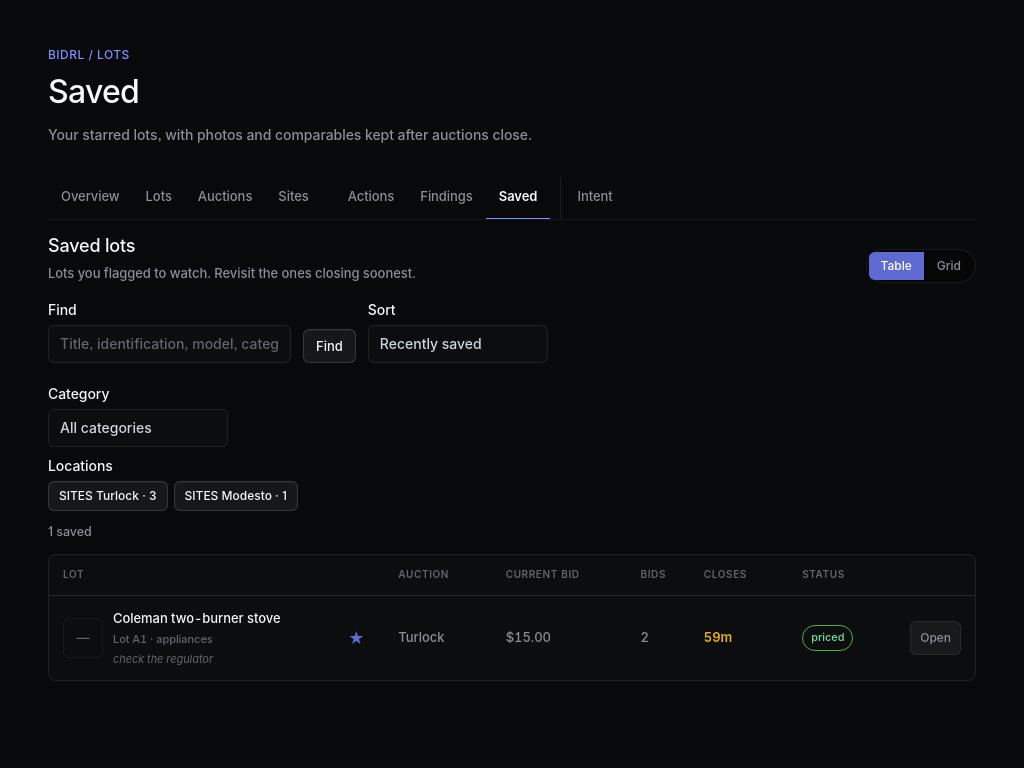
Test: bidrl screens › drops a lot from Saved the moment it is unstarred, without a reload
Click the button with class "bidrl-star" at (356, 638), box [342,624,370,652]
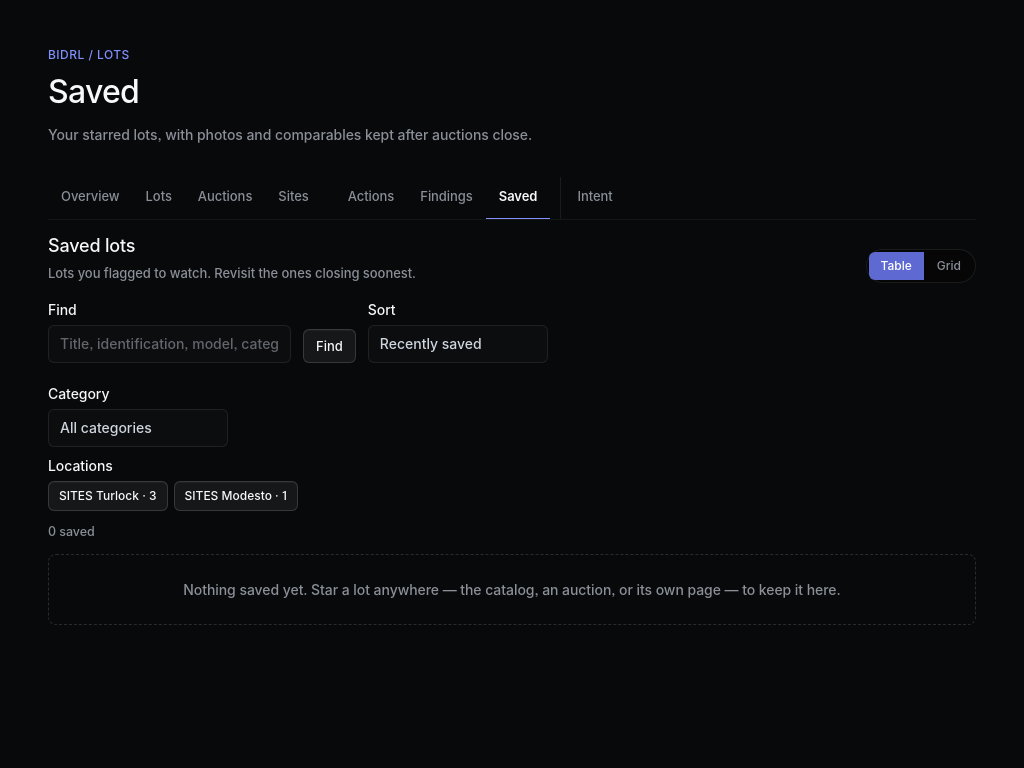
Expected: the text "Coleman two-burner stove" is gone
